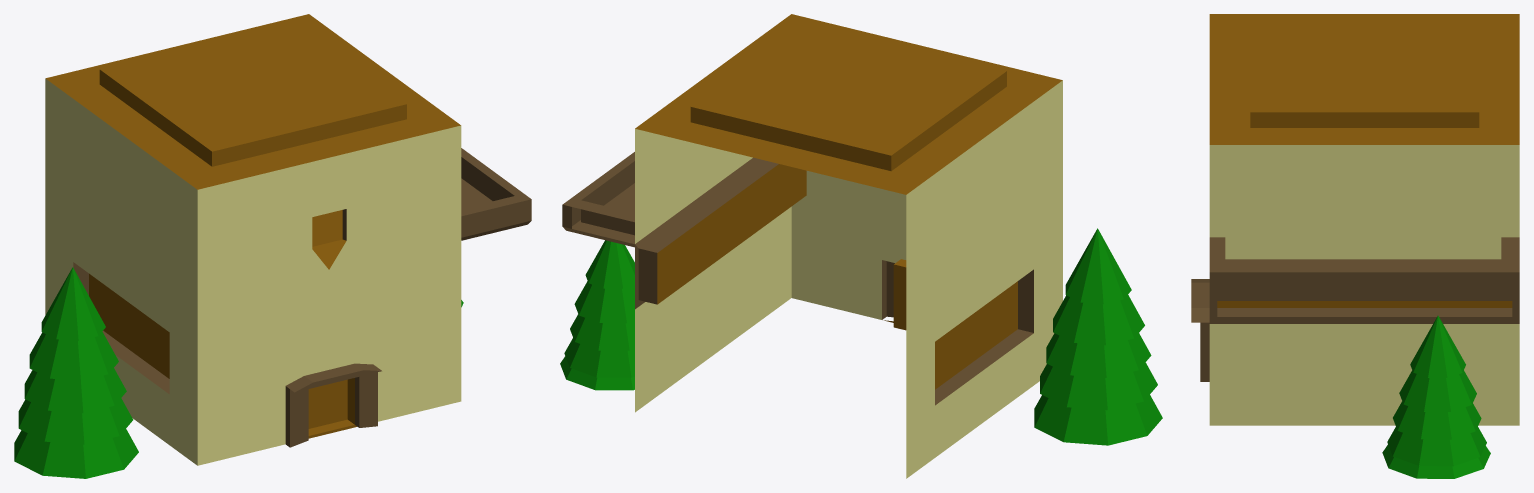
File: SideHouse5.fbx
3 renders of one model, left to right at view 1: azimuth 30°, elevation 25°; view 2: azimuth 150°, elevation 25°; view 3: azimuth 270°, elevation 25°, orthographic. The views are drawn at different scales.
Parts seen in each view (by area): view 1: Cube, Cone; view 2: Cube, Cone; view 3: Cube, Cone.
Boxes of the visible parts, x1,y1,x2,y2 form: Cube: (45,14,531,465); Cone: (14,267,463,478); Cube: (562,14,1062,478); Cone: (560,228,1162,445); Cube: (1191,14,1519,425); Cone: (1382,315,1490,478).
Size of the model in its own units: 2661 by 1484 by 1484.
